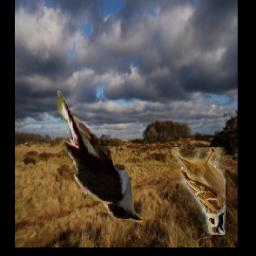Cuckoo: (57, 86, 143, 224)
Sparrow: (172, 148, 226, 236)
